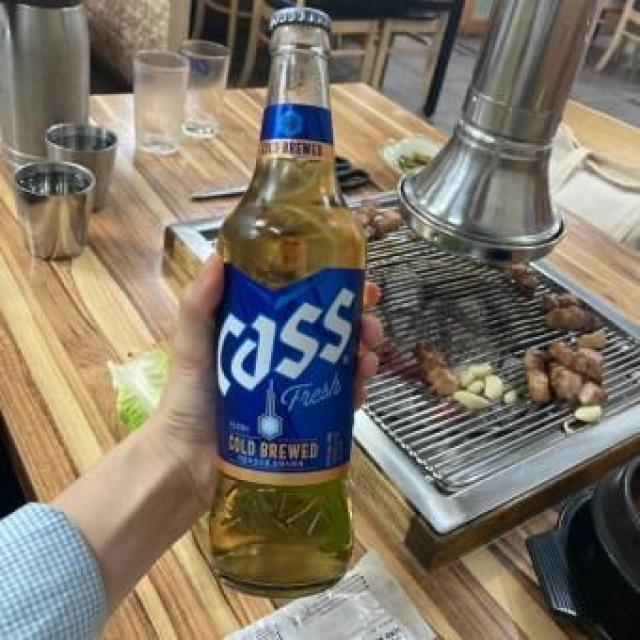beer-bottle: (204, 6, 358, 604)
